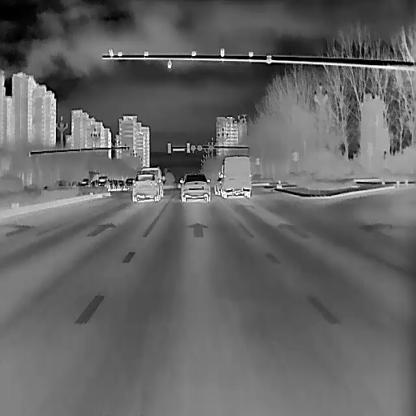car: (217, 156, 252, 198), (178, 172, 211, 202), (131, 170, 161, 201), (140, 163, 163, 197), (123, 176, 133, 190), (107, 177, 115, 191), (116, 178, 125, 189), (113, 178, 120, 189)
truck: (97, 174, 110, 190)
